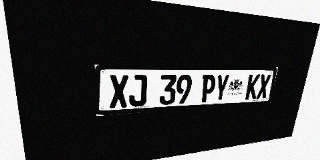3: (159, 75, 177, 105)
9: (175, 74, 193, 104)
J: (129, 75, 147, 107)
K: (245, 74, 260, 100)
P: (200, 74, 216, 103)
X: (109, 75, 128, 108), (256, 74, 271, 99)
Y: (213, 74, 230, 102)
